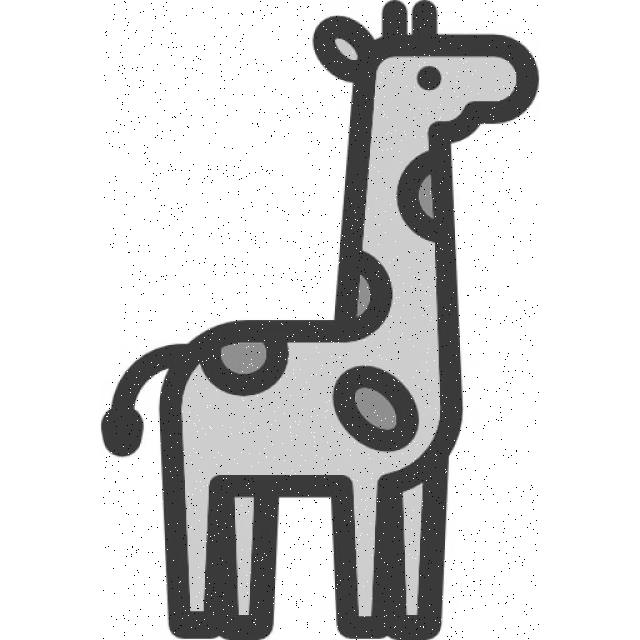girafe: (104, 1, 540, 640)
